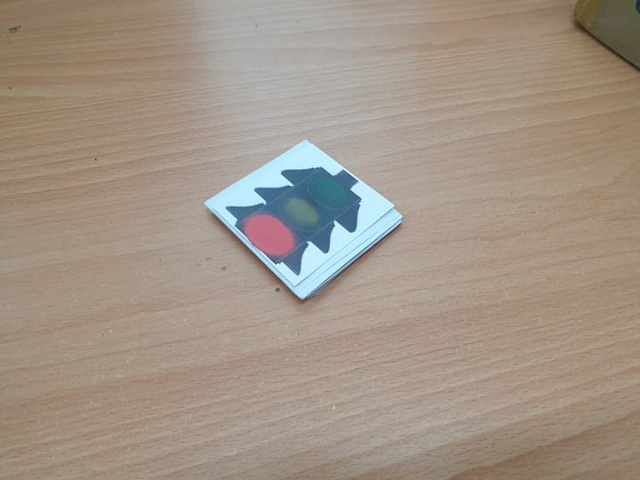Red: (229, 166, 363, 276)
